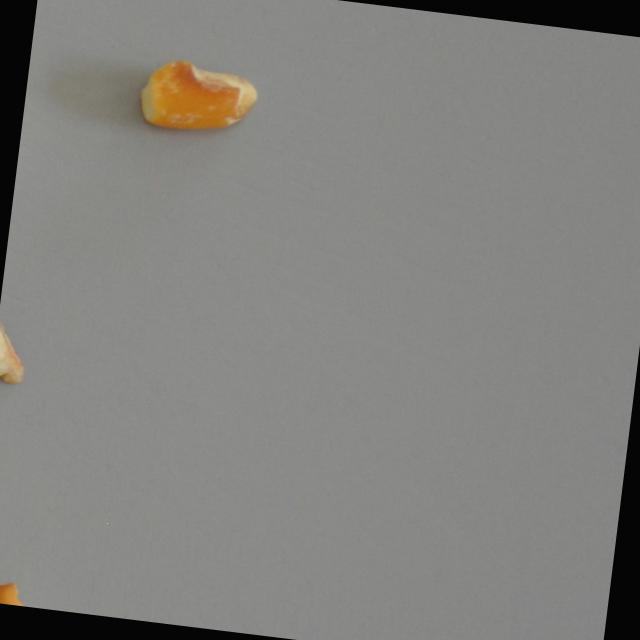dañado: (126, 47, 271, 144), (0, 273, 40, 398), (0, 576, 45, 608)
